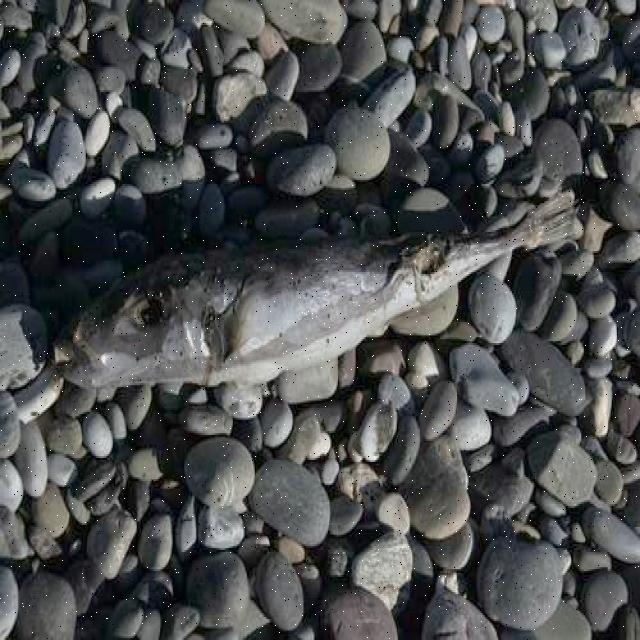Balik: (57, 194, 578, 387)
